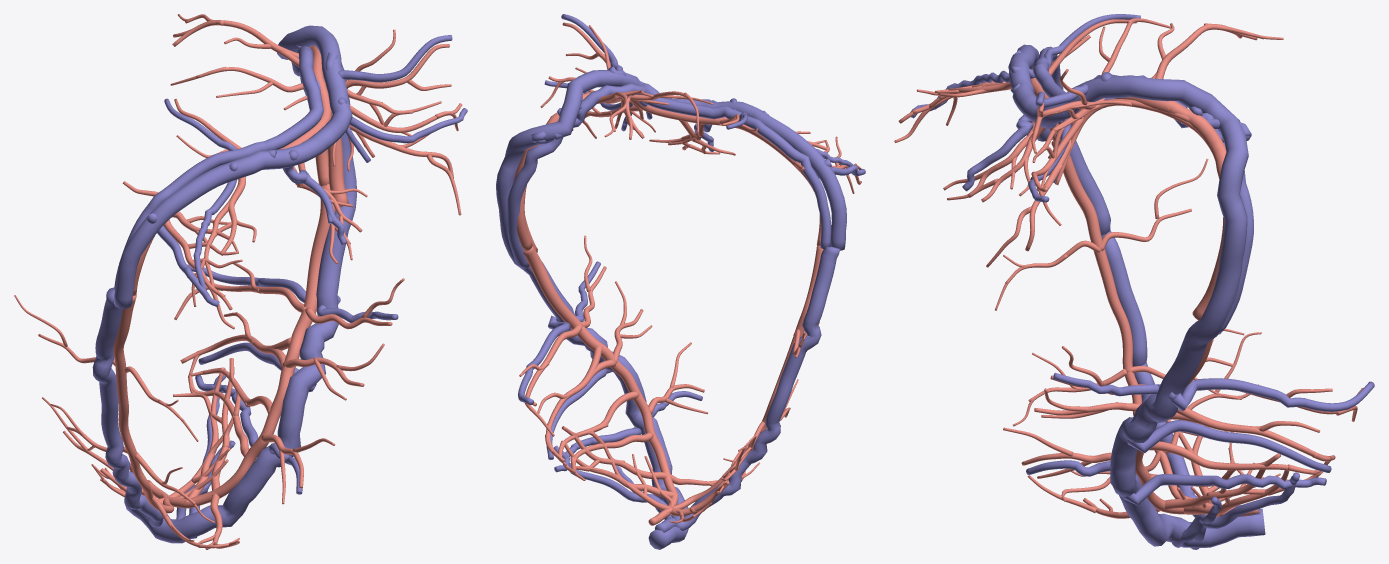
File: vessels_2.glb
3 renders of one model, left to right at view 1: azimuth 30°, elevation 25°; view 2: azimuth 150°, elevation 25°; view 3: azimuth 270°, elevation 25°, orthographic. The views are drawn at different scales.
Visible parts, largest first — view 1: Renderer Node; view 2: Renderer Node; view 3: Renderer Node.
Part boxes in pixels (<box>): Renderer Node: <box>14,14,467,549</box>; Renderer Node: <box>496,14,865,549</box>; Renderer Node: <box>894,14,1374,549</box>.
Size of the model in its own units: 95.32 by 124 by 95.55.
